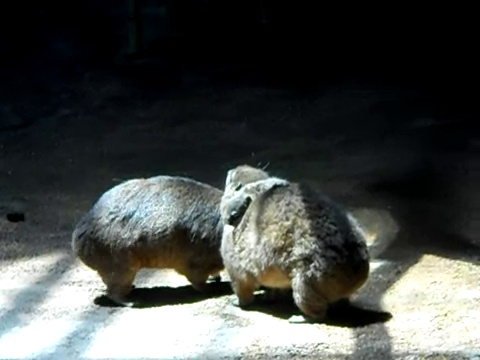Rock Hyrex: (220, 163, 371, 327), (69, 174, 225, 308)
